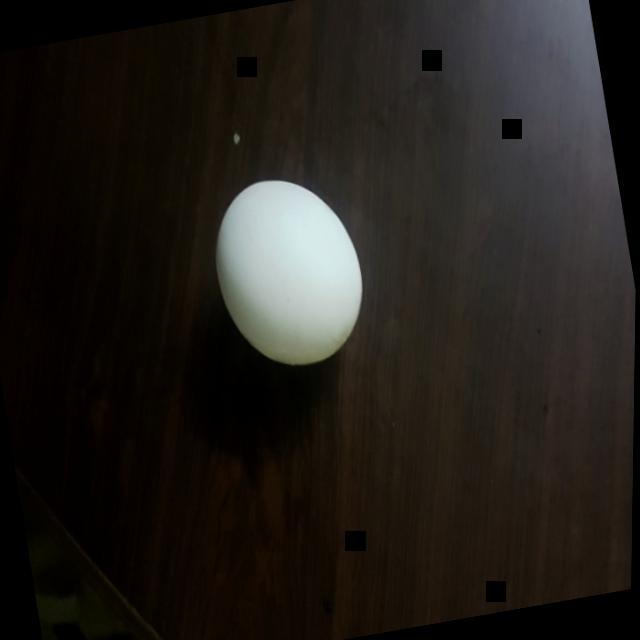eggs: (202, 164, 378, 378)
